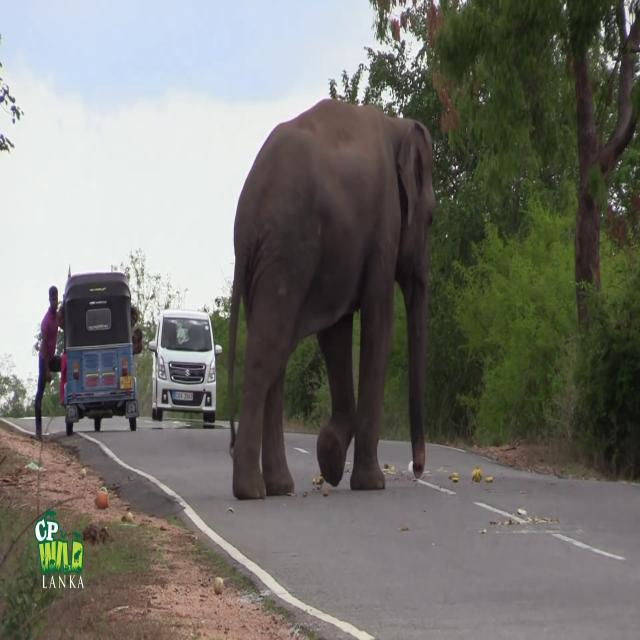Elephant: (227, 97, 436, 500)
person: (35, 285, 64, 442)
